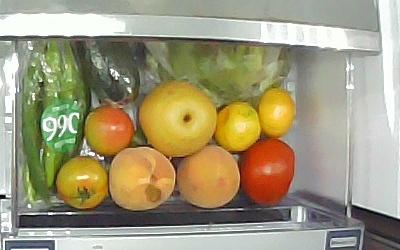peach: (107, 145, 176, 211), (175, 142, 240, 208)
pear: (137, 78, 217, 157)
tangerine: (214, 99, 261, 152), (257, 86, 296, 138)
tomato: (236, 135, 295, 206), (55, 155, 108, 209), (83, 103, 134, 154)
